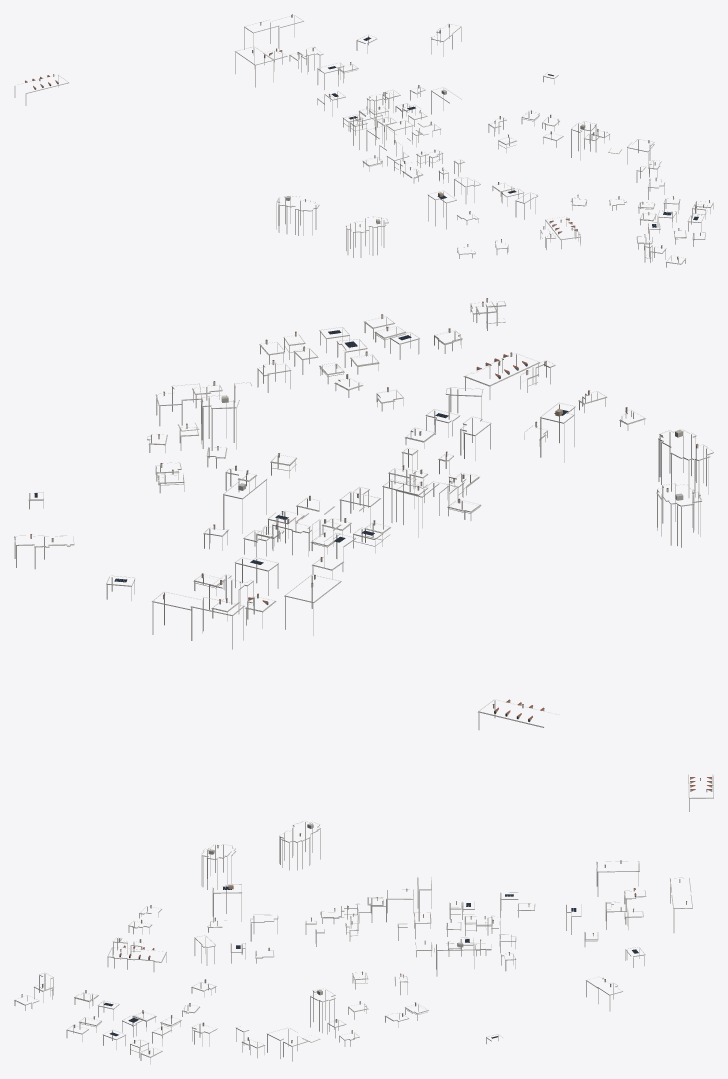
The picture shows the model from 3 angles, top to bottom: view 1: azimuth 30°, elevation 25°; view 2: azimuth 150°, elevation 25°; view 3: azimuth 270°, elevation 25°; orthographic projection. The views are drawn at different scales.
Visible parts, largest first — view 1: detail; view 2: detail; view 3: detail.
Part boxes in pixels (x1=…): detail: x1=14, y1=14, x2=713, y2=267; detail: x1=14, y1=298, x2=713, y2=729; detail: x1=14, y1=774, x2=713, y2=1064.
Size of the model in its own units: 421 by 56.83 by 512.
